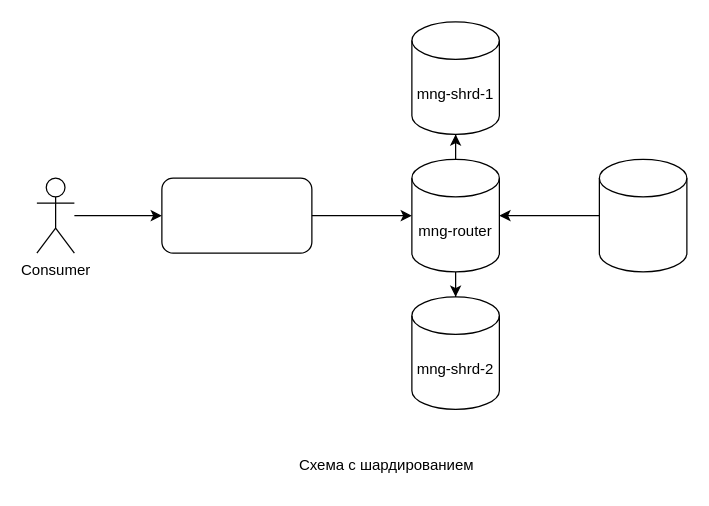
Some shapes in this 709 by 506 pixel diagram are drawn without their labels. The centre of each missing label's shape, as x and y in pixels:
"mng-cfg-srv" belongs at (642,215).
"pymongo-api" belongs at (236,215).
